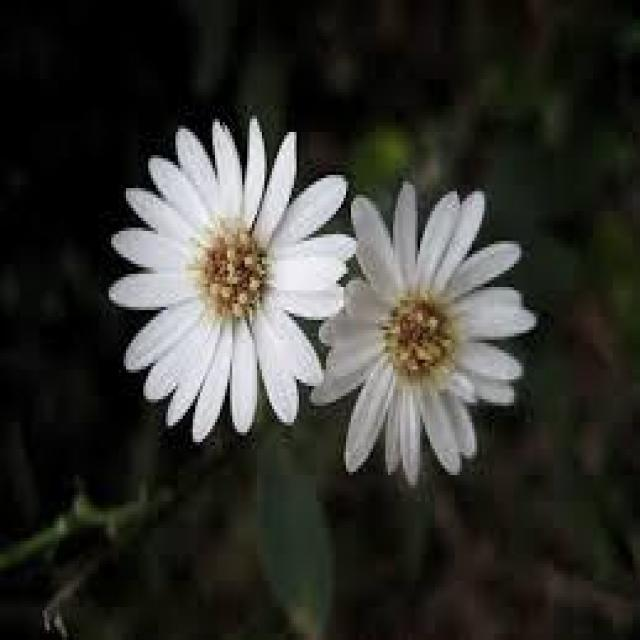organic waste: (100, 117, 350, 431), (320, 184, 540, 482)
